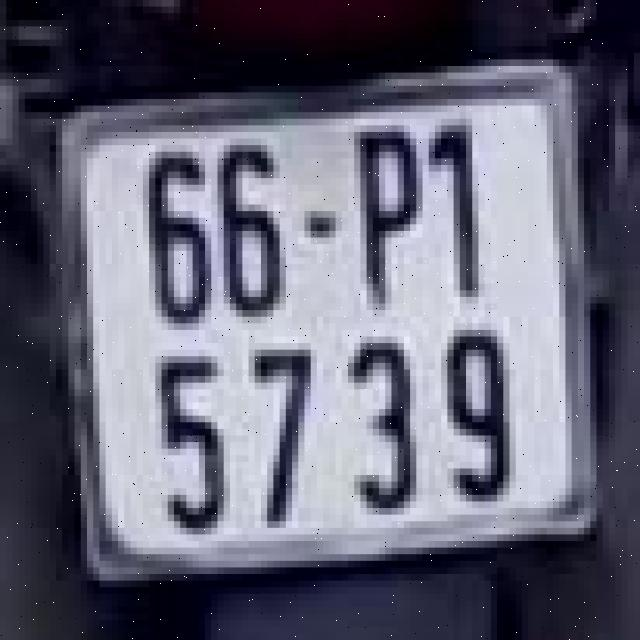1: (420, 99, 500, 303)
3: (351, 330, 432, 528)
5: (149, 340, 230, 538)
6: (136, 142, 218, 340), (214, 135, 289, 333)
7: (252, 333, 320, 538)
9: (438, 320, 525, 505)
P: (344, 115, 426, 320)
